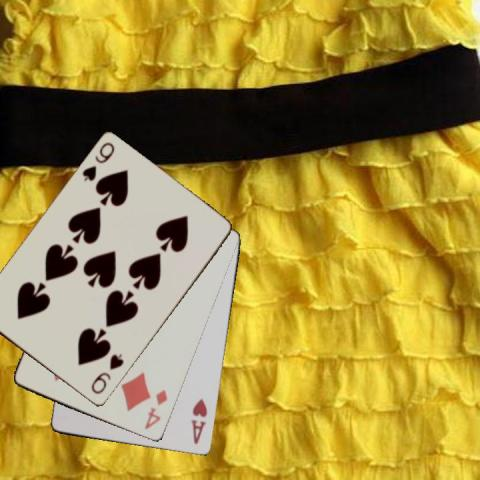4d: (142, 387, 170, 431)
9s: (88, 351, 125, 396), (79, 140, 116, 184)
Ah: (189, 396, 209, 446)
